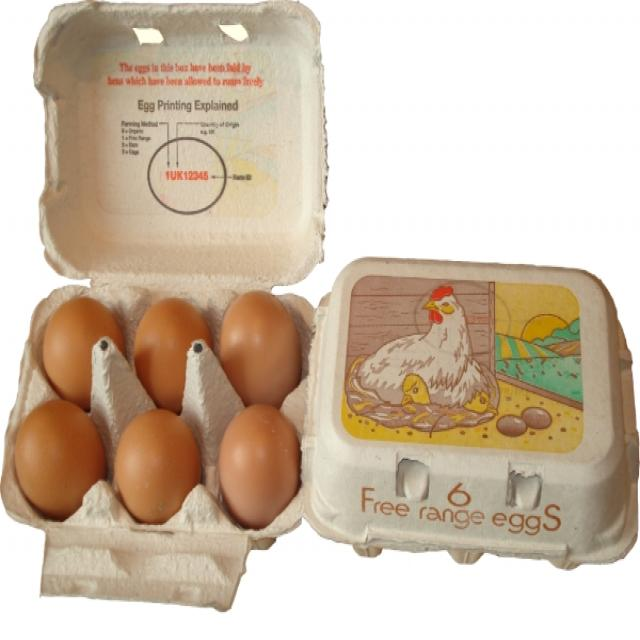eggs: (317, 260, 638, 568), (14, 284, 310, 541)
